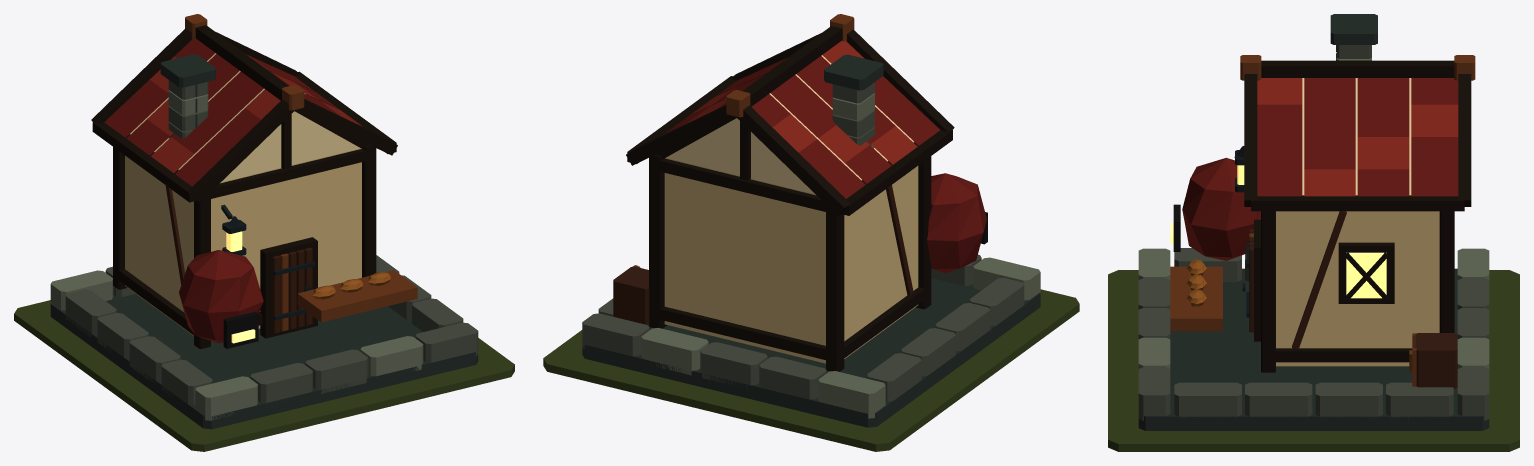
The model's file is bakery_t4.glb.
3 renders of one model, left to right at view 1: azimuth 30°, elevation 25°; view 2: azimuth 150°, elevation 25°; view 3: azimuth 270°, elevation 25°, orthographic. The views are drawn at different scales.
Parts seen in each view (by area): view 1: MMR | bakery | T04 Architecture.001, MMR | bakery | Tier 04 Ground.001; view 2: MMR | bakery | T04 Architecture.001, MMR | bakery | Tier 04 Ground.001; view 3: MMR | bakery | T04 Architecture.001, MMR | bakery | Tier 04 Ground.001.
Boxes of the visible parts, left/top/right/bottom form: MMR | bakery | T04 Architecture.001: left=50, top=14, right=478, bottom=429; MMR | bakery | Tier 04 Ground.001: left=14, top=300, right=514, bottom=451; MMR | bakery | T04 Architecture.001: left=582, top=14, right=1040, bottom=427; MMR | bakery | Tier 04 Ground.001: left=543, top=289, right=1079, bottom=451; MMR | bakery | T04 Architecture.001: left=1138, top=14, right=1489, bottom=430; MMR | bakery | Tier 04 Ground.001: left=1108, top=270, right=1519, bottom=451.
Size of the model in its own units: 2.35 by 1.95 by 2.35.
Materials: 2 (1 with a texture image).
